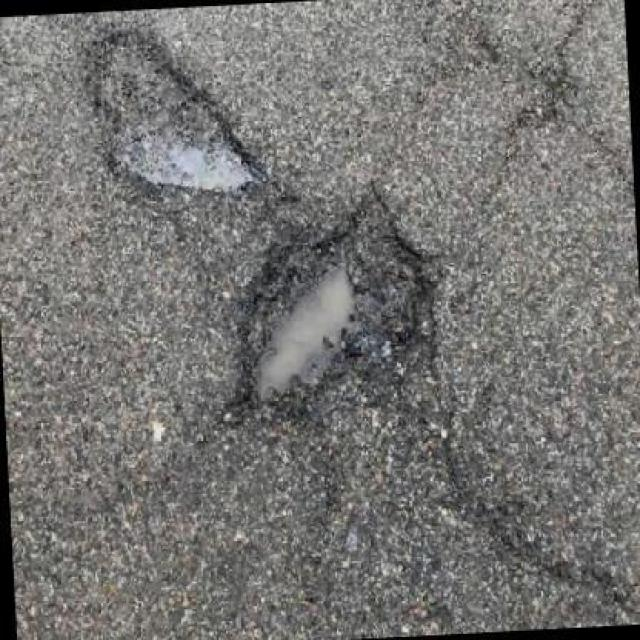pothole: (222, 185, 440, 438), (88, 32, 271, 195)
